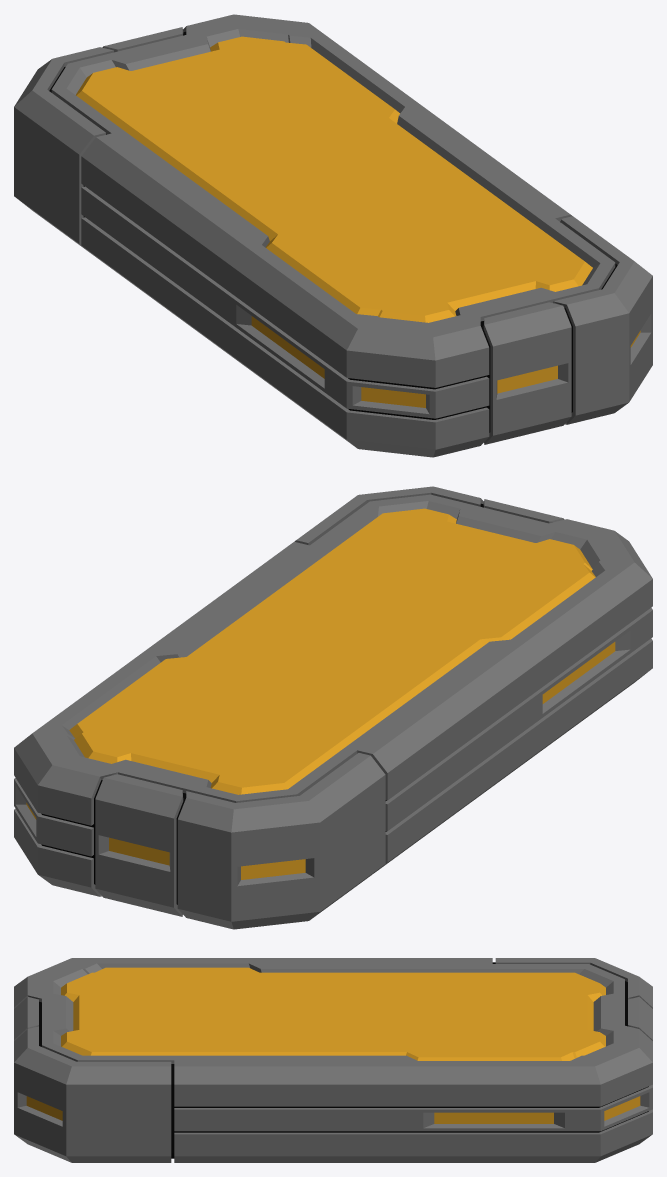
The model's file is SM_Gold_Conductor.fbx.
The picture shows the model from 3 angles, top to bottom: view 1: azimuth 30°, elevation 25°; view 2: azimuth 150°, elevation 25°; view 3: azimuth 270°, elevation 25°; orthographic projection. The views are drawn at different scales.
Visible parts, largest first — view 1: SM_Gold_Conductor; view 2: SM_Gold_Conductor; view 3: SM_Gold_Conductor.
Part boxes in pixels (x1,y1,x2,y2): SM_Gold_Conductor: [14, 14, 652, 457]; SM_Gold_Conductor: [14, 486, 652, 929]; SM_Gold_Conductor: [14, 958, 652, 1162].
Bounding box in the file's own units: 8 × 3 × 18.
